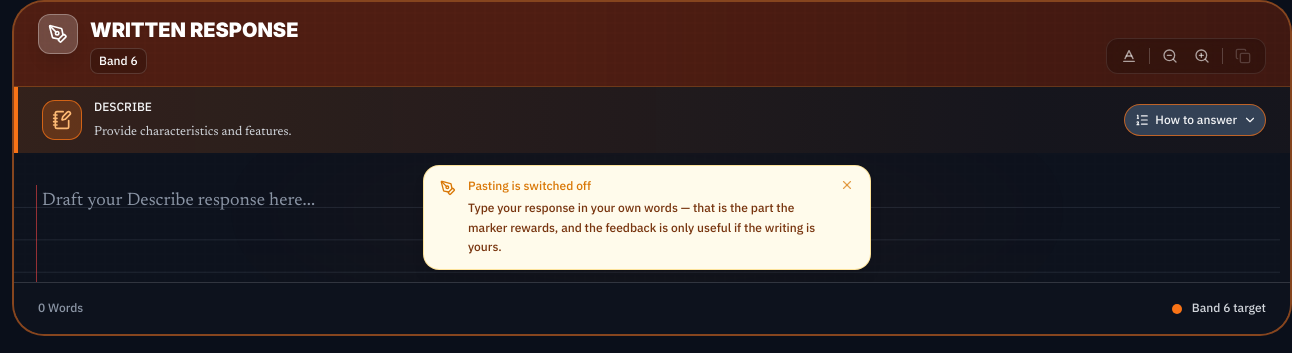
Test: paste into the writing surface › can be dismissed once read
The width and height of the screenshot is (1292, 353).
Click the button named "dismiss". click: click(847, 185)
box: [836,174,858,196]
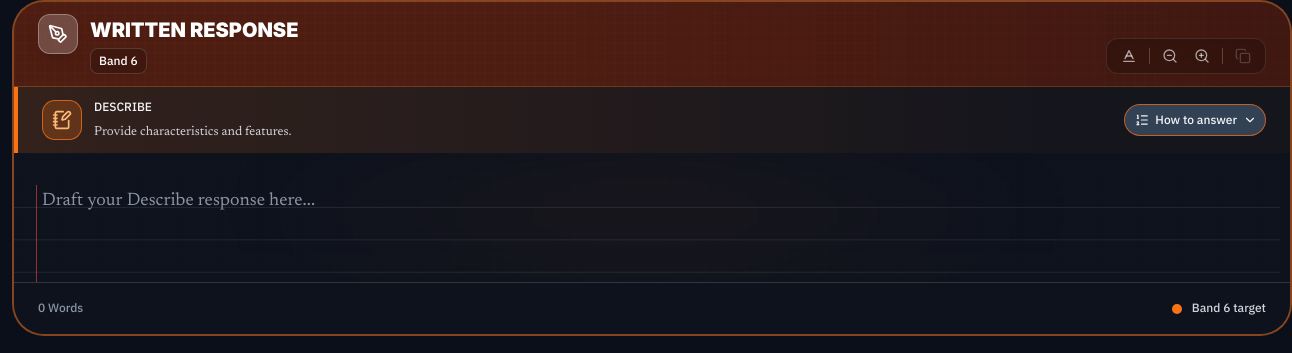
Now the message "Pasting is switched off Type your response in your own words — that is the part" is gone
